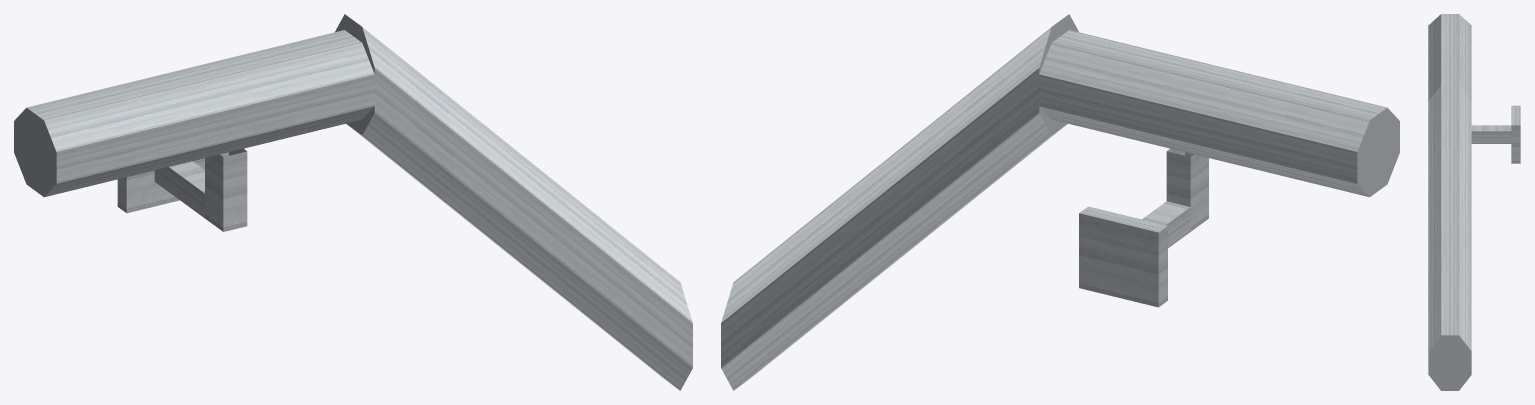
Rendered from top_neg.obj.
3 renders of one model, left to right at view 1: azimuth 30°, elevation 25°; view 2: azimuth 150°, elevation 25°; view 3: azimuth 270°, elevation 25°, orthographic. The views are drawn at different scales.
Parts seen in each view (by area): view 1: handrail_wall_stainless_round_top_neg; view 2: handrail_wall_stainless_round_top_neg; view 3: handrail_wall_stainless_round_top_neg.
Boxes of the visible parts, x1,y1,x2,y2 form: handrail_wall_stainless_round_top_neg: (14, 14, 692, 390); handrail_wall_stainless_round_top_neg: (721, 14, 1399, 390); handrail_wall_stainless_round_top_neg: (1428, 14, 1520, 390).
Size of the model in its own units: 1 by 0.6633 by 0.2452.
